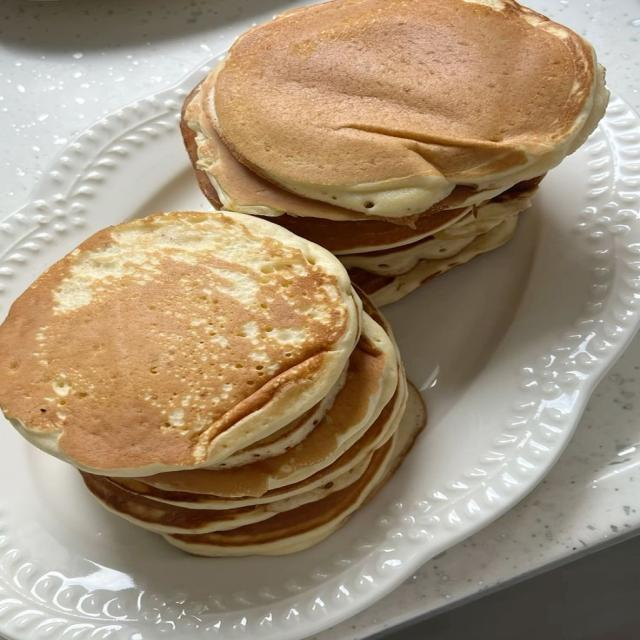pancake: (0, 213, 360, 475), (201, 0, 607, 217), (181, 70, 504, 253), (145, 314, 398, 497), (166, 389, 425, 556), (113, 372, 410, 508), (81, 455, 372, 533), (340, 187, 536, 275), (349, 215, 518, 305), (211, 369, 346, 469)
